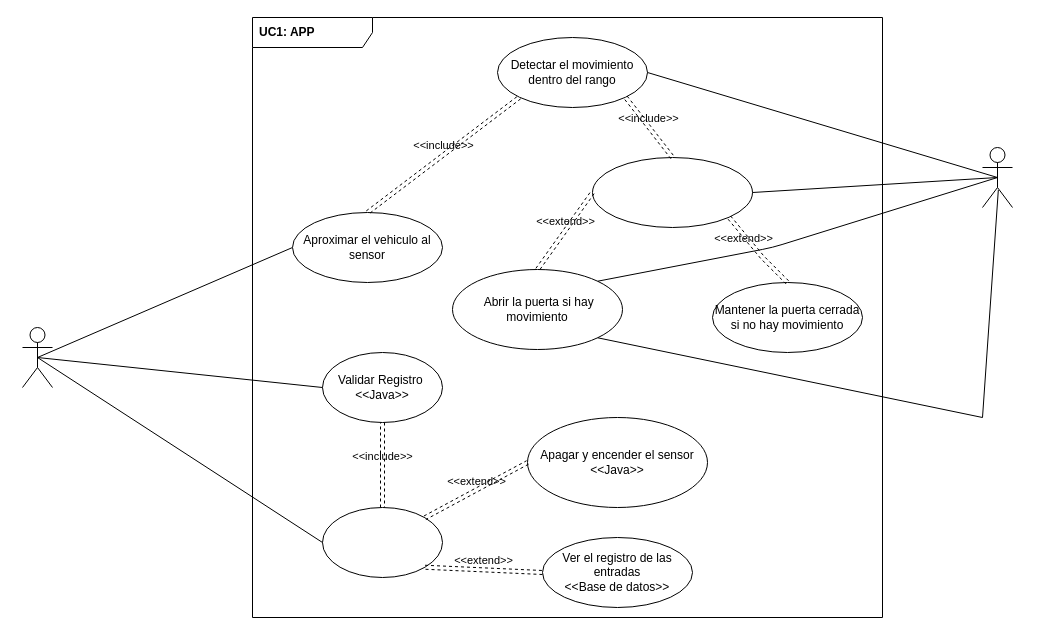
Image size: 1042x635. Some labels were removed from this diagram. Each missing label, with the box of its shape:
ARDUINO: (982, 146, 1012, 208)
Enviar una señal al sistema correcta o incorrecta: (592, 156, 752, 228)
Registrar vehículo <<Java>>: (322, 506, 442, 578)
Usuario: (22, 326, 52, 388)
